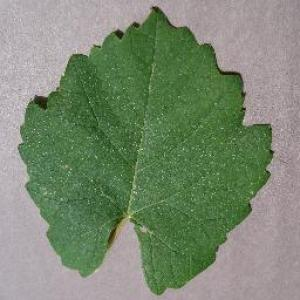Folha: (16, 5, 274, 295)
